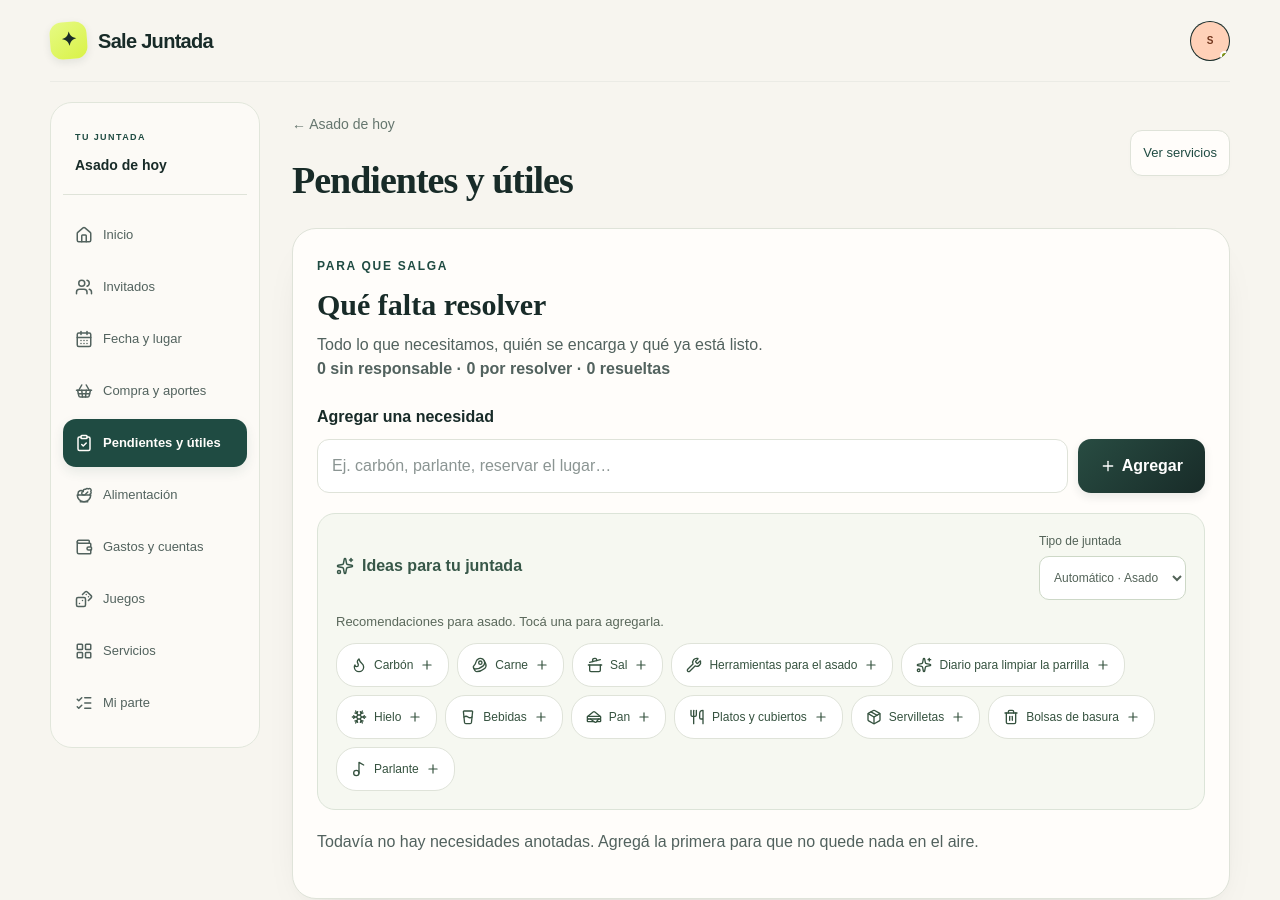
Test case: servicios con pantallas propias › conserva el borrador y el socket al recorrer distintos módulos
Type "Un parlante grande" into the field labelled "Agregar una necesidad".
click(692, 466); type("Un parlante grande")  # box x1=317 y1=439 x2=1068 y2=493
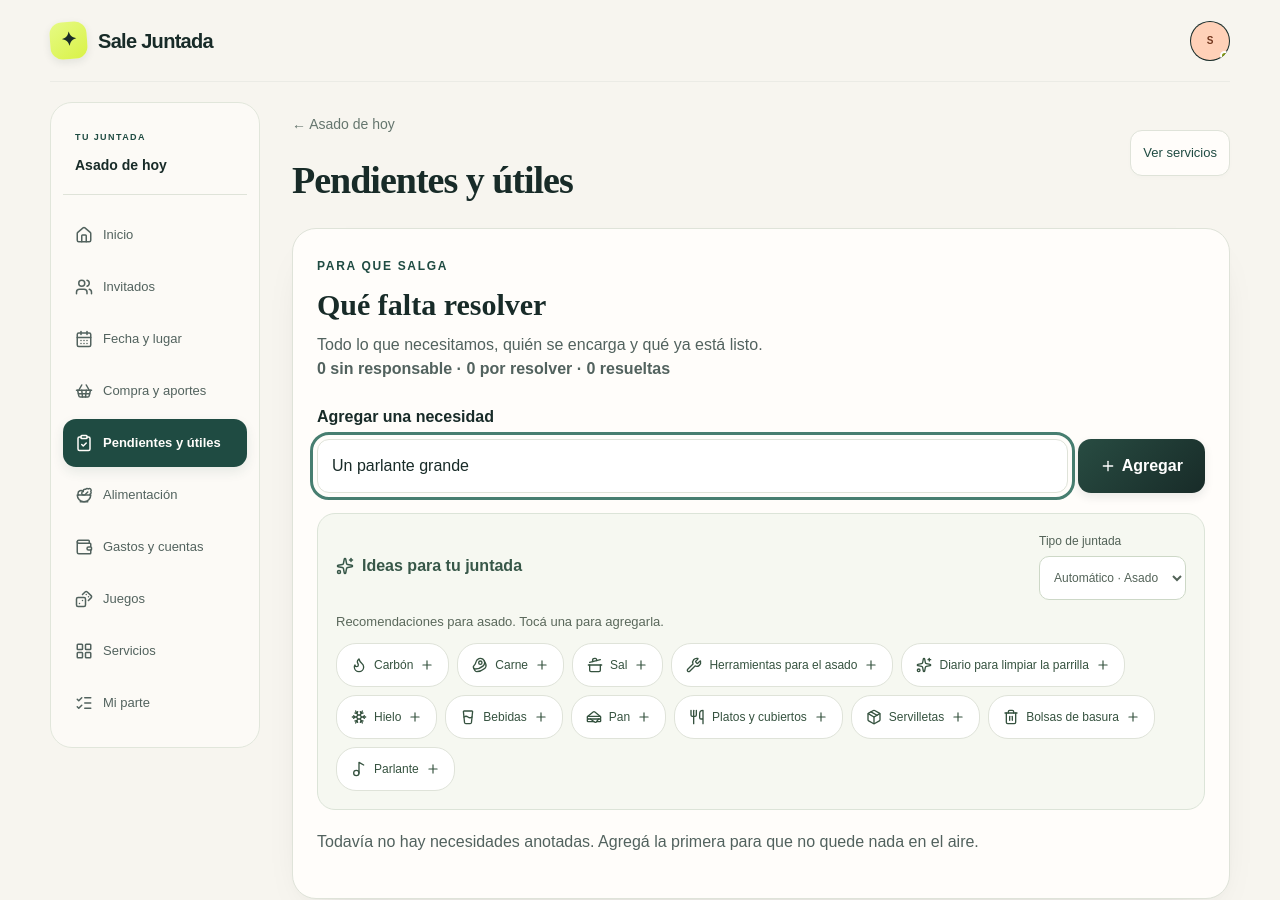
Click the link "← Asado de hoy".
click(343, 124)  # box x1=292 y1=116 x2=395 y2=132
(page scrolled)
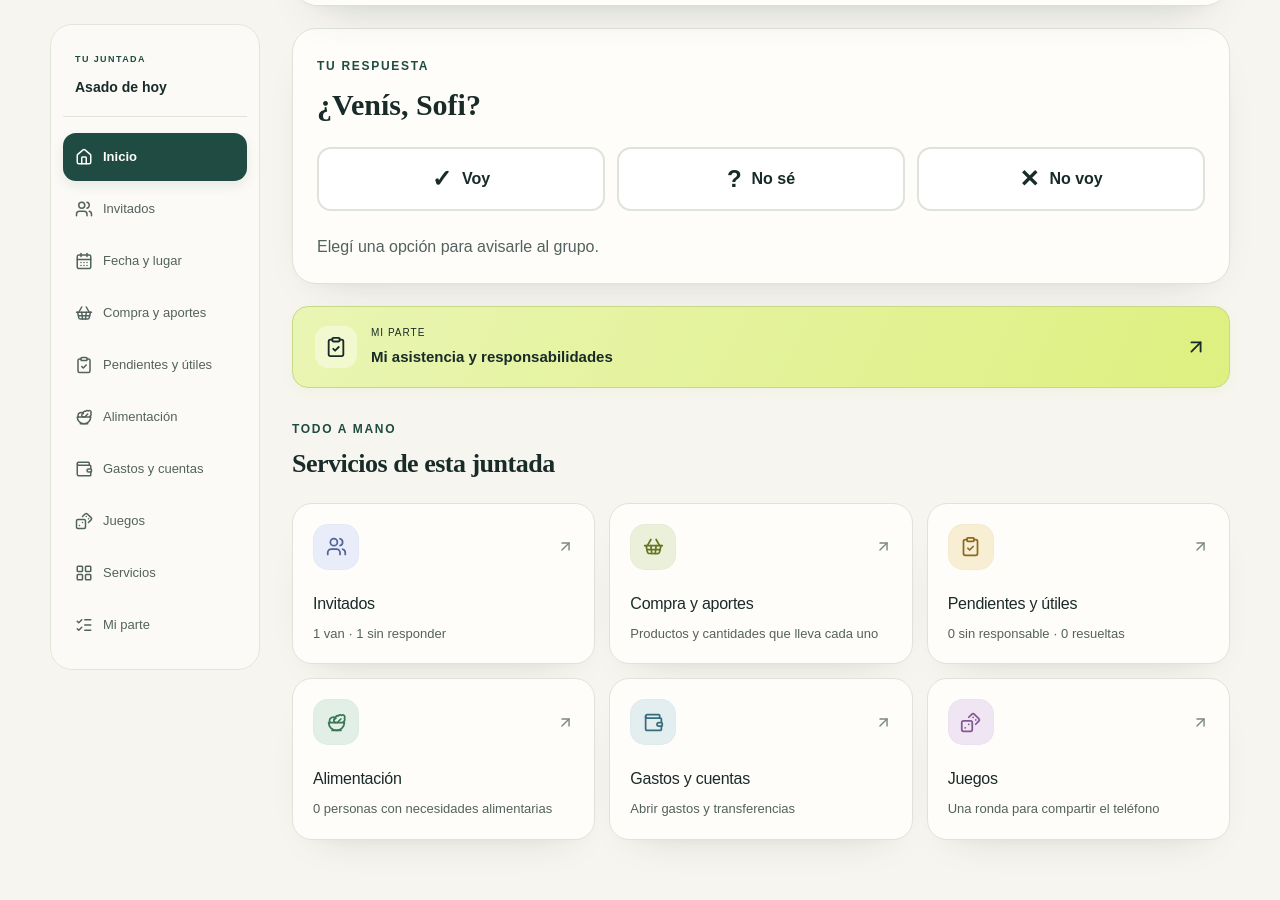
expect the label labelled "Agregar una necesidad" is gone: met
Click the link "Pendientes y útiles 0 sin responsable · 0 resueltas".
click(971, 547)  # box x1=927 y1=503 x2=1230 y2=664
(page scrolled)
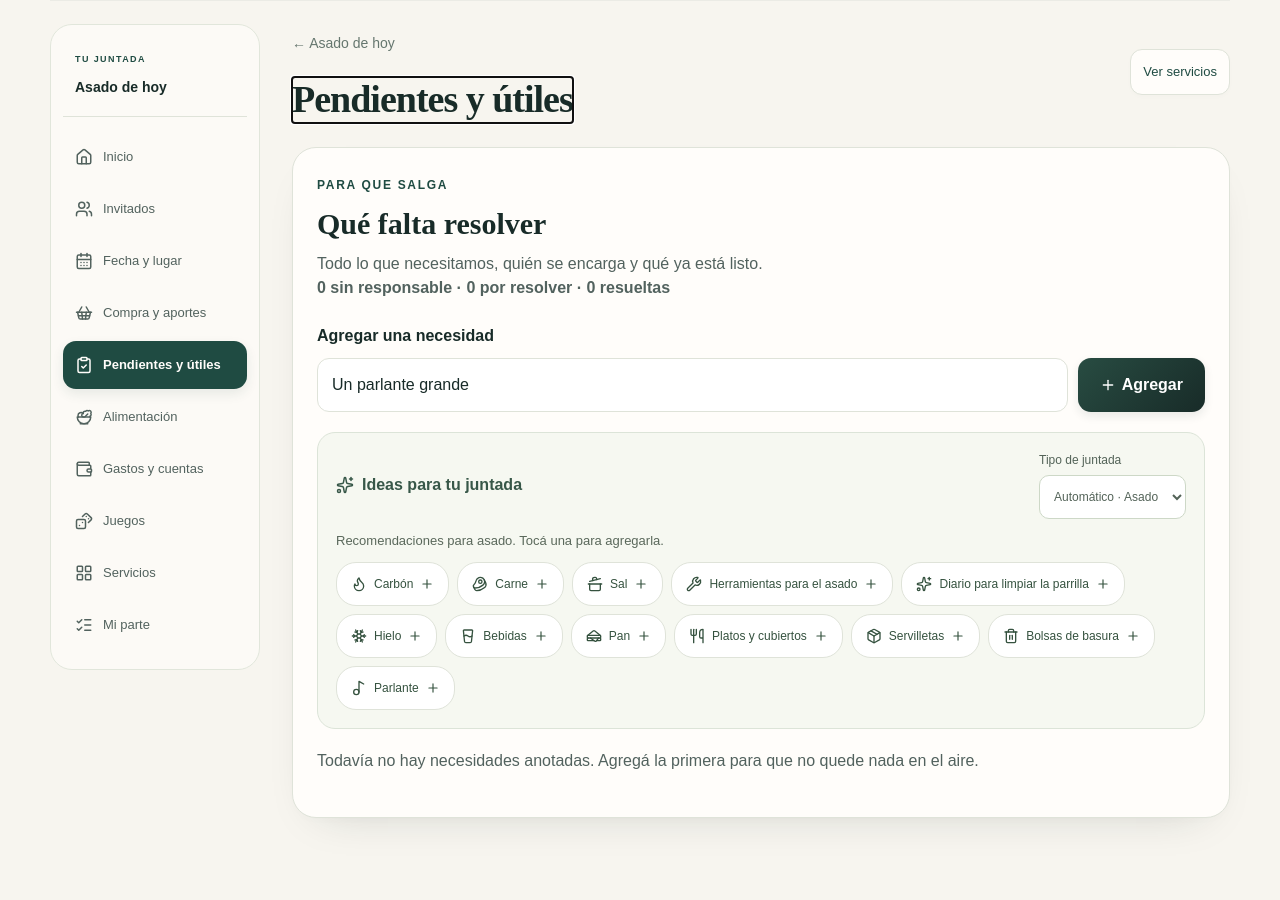
expect the field labelled "Agregar una necesidad" holds "Un parlante grande": met, box x1=317 y1=358 x2=1068 y2=412
